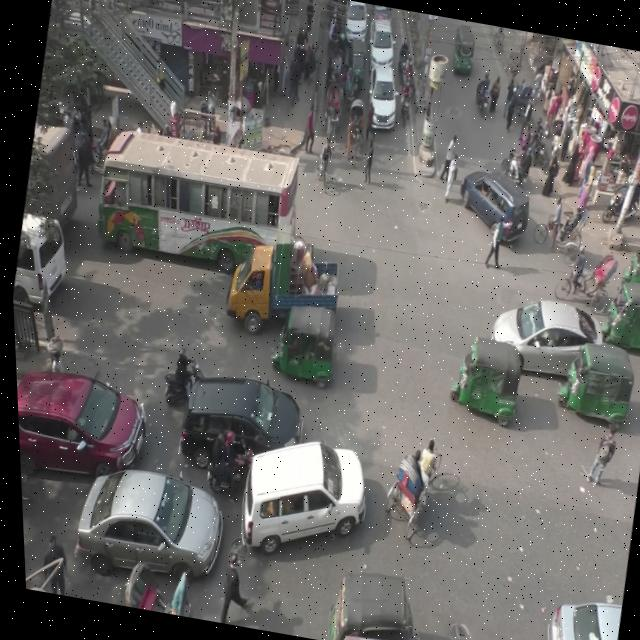cng: (439, 329, 539, 438), (265, 287, 349, 398), (550, 327, 640, 422), (580, 270, 640, 362), (443, 20, 481, 87), (337, 32, 372, 99), (616, 222, 640, 295)
rikshaw: (365, 416, 458, 542), (525, 181, 596, 272), (333, 82, 378, 168), (303, 80, 350, 161), (502, 65, 537, 128)
